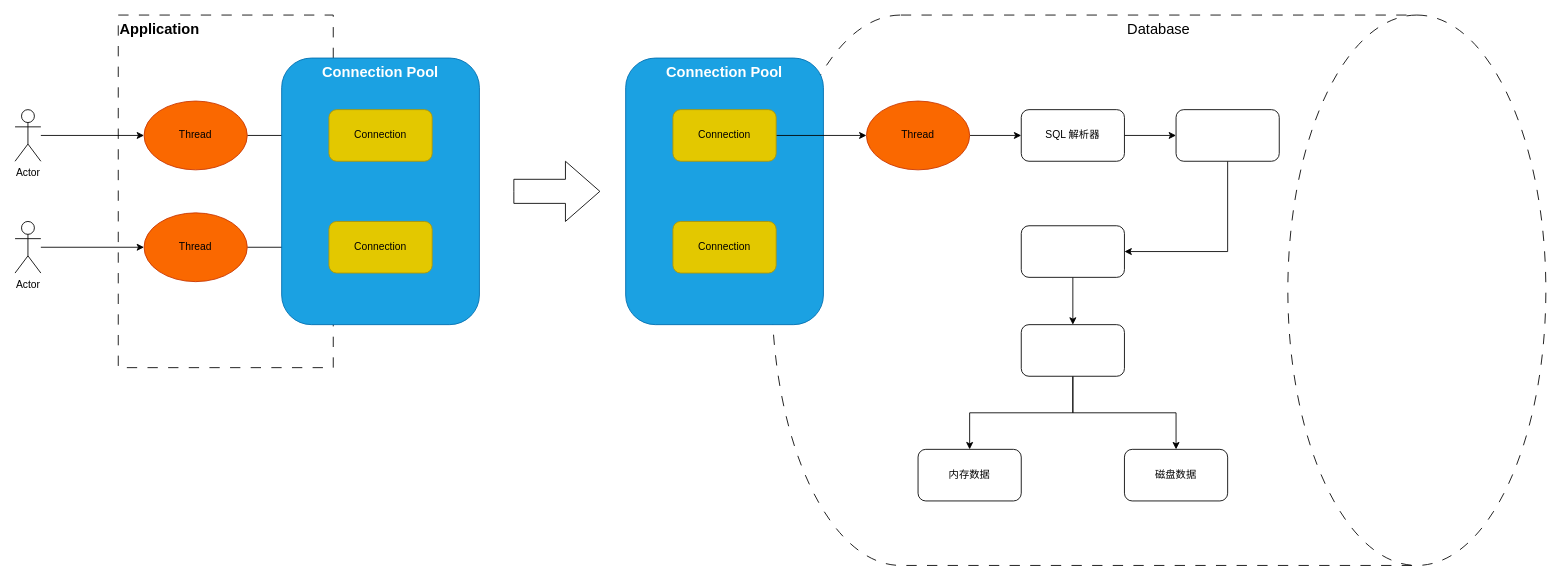
Image size: 1561x581. Some labels were removed from this diagram. Each missing label, with the centre of its shape:
SQL 优化器: the point at 1227,135
SQL 执行器: the point at 1072,251
存储引擎: the point at 1072,350
